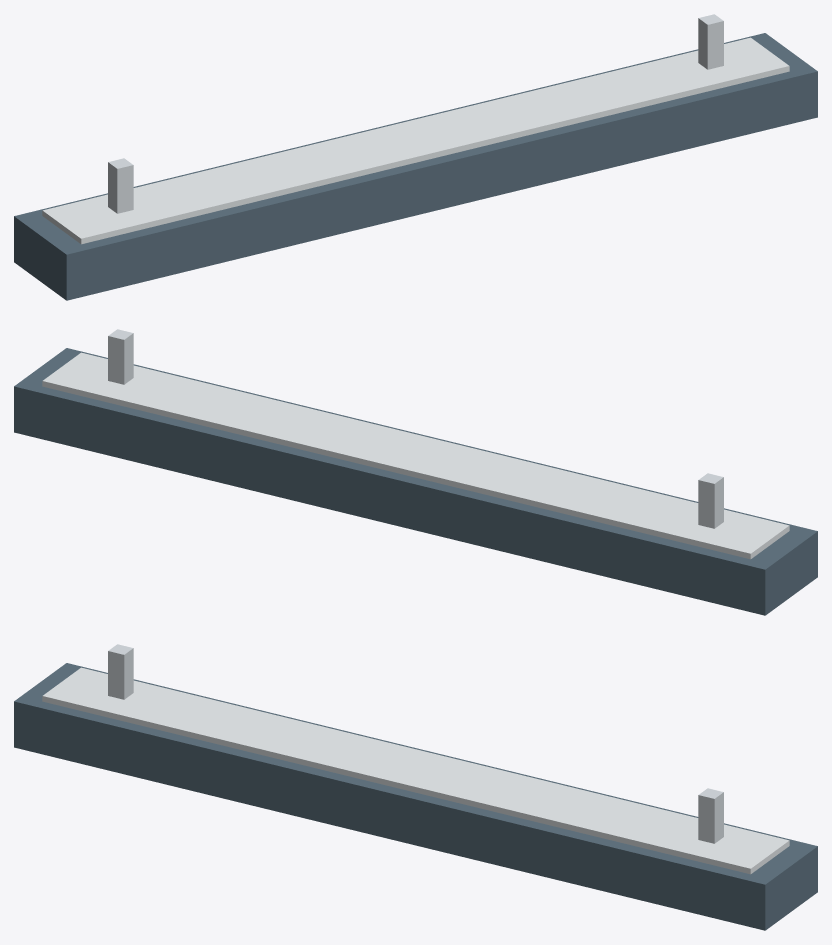
The model's file is linear-luminaire.glb.
3 views of the same model, one above another, from view 1: azimuth 30°, elevation 25°; view 2: azimuth 150°, elevation 25°; view 3: azimuth 330°, elevation 25° (orthographic).
Visible parts, largest first — view 1: linear-luminaire; view 2: linear-luminaire; view 3: linear-luminaire.
Boxes of the visible parts, left/top/right/bottom form: linear-luminaire: left=14, top=14, right=817, bottom=300; linear-luminaire: left=14, top=329, right=817, bottom=615; linear-luminaire: left=14, top=644, right=817, bottom=930.
Size of the model in its own units: 1.4 by 0.175 by 0.17.
